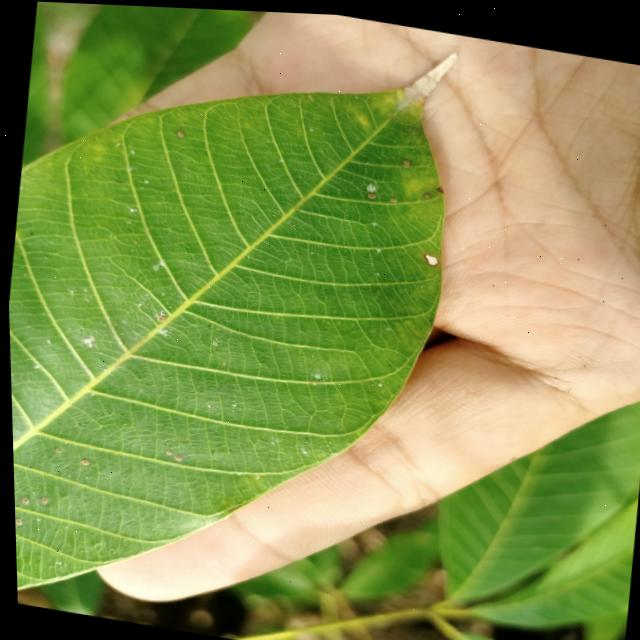Colletotrichum: (421, 249, 437, 263)
Leaf-Blight: (398, 40, 459, 106)
